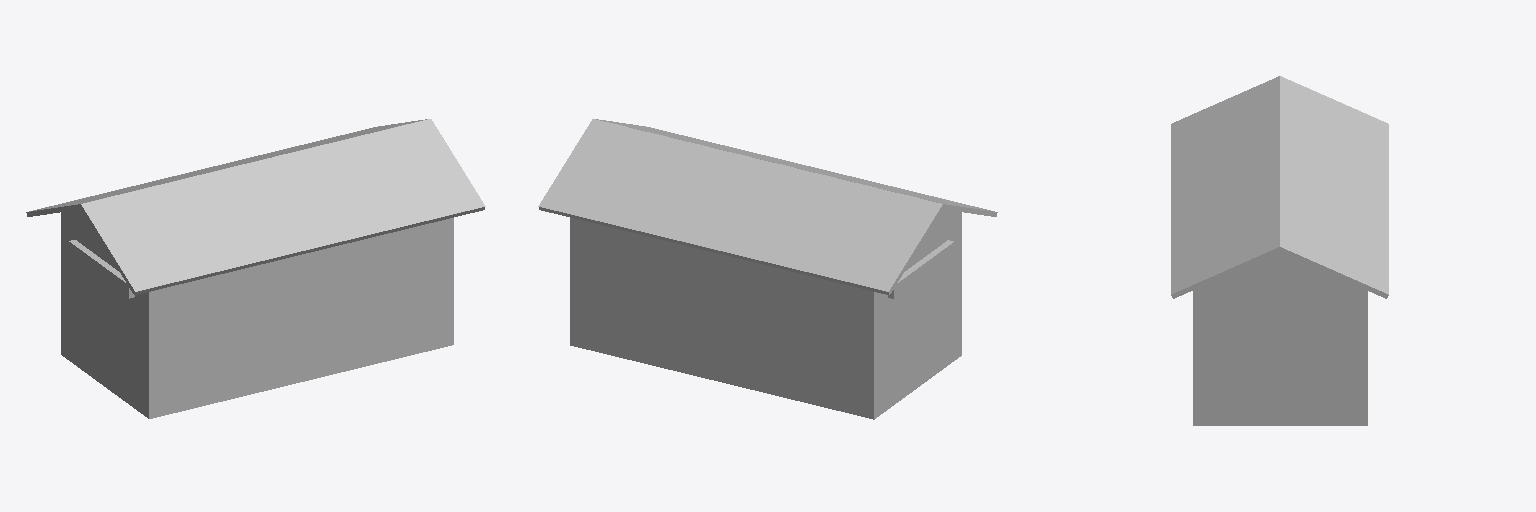
File: Garage 2.obj
3 views of the same model, side by side, from view 1: azimuth 30°, elevation 25°; view 2: azimuth 150°, elevation 25°; view 3: azimuth 270°, elevation 25° (orthographic).
Visible parts, largest first — view 1: Garage_2_Garage_1_Куб.002; view 2: Garage_2_Garage_1_Куб.002; view 3: Garage_2_Garage_1_Куб.002.
Part boxes in pixels (left/top/right/bottom): Garage_2_Garage_1_Куб.002: left=26, top=119, right=485, bottom=418; Garage_2_Garage_1_Куб.002: left=538, top=119, right=997, bottom=419; Garage_2_Garage_1_Куб.002: left=1171, top=76, right=1388, bottom=425.
Bounding box in the file's own units: 22.47 × 11.62 × 12.12.